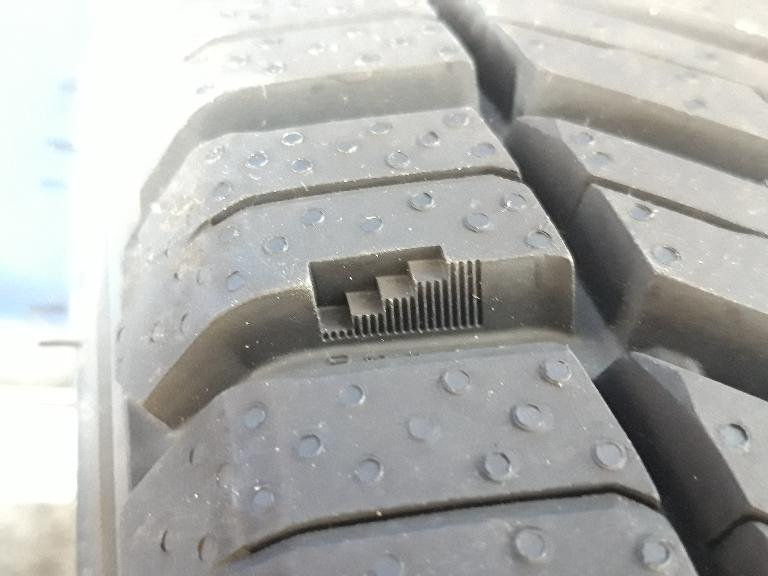temoin:100: (299, 238, 494, 350)
